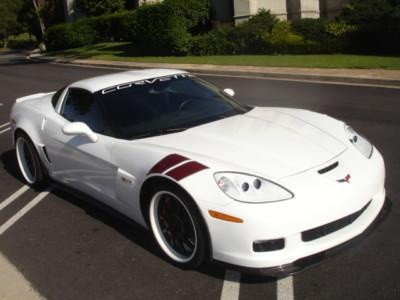car: (1, 54, 395, 282)
